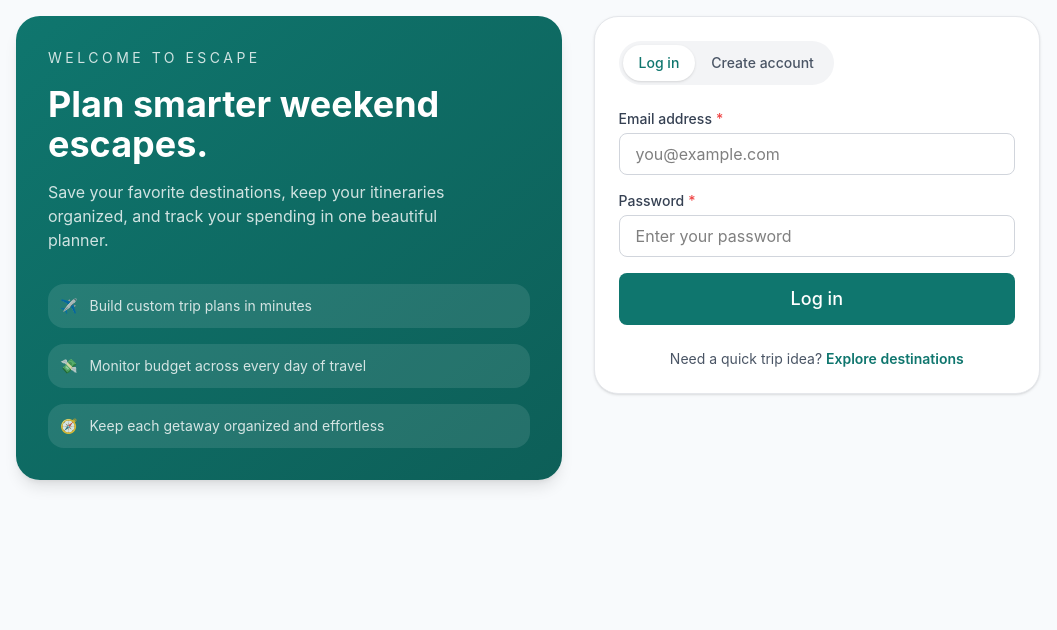
AuthPage › creates a new account from the sign-up form
This screenshot has width=1057, height=630.
Click the button "Create account": (763,63) [695,45,830,81]
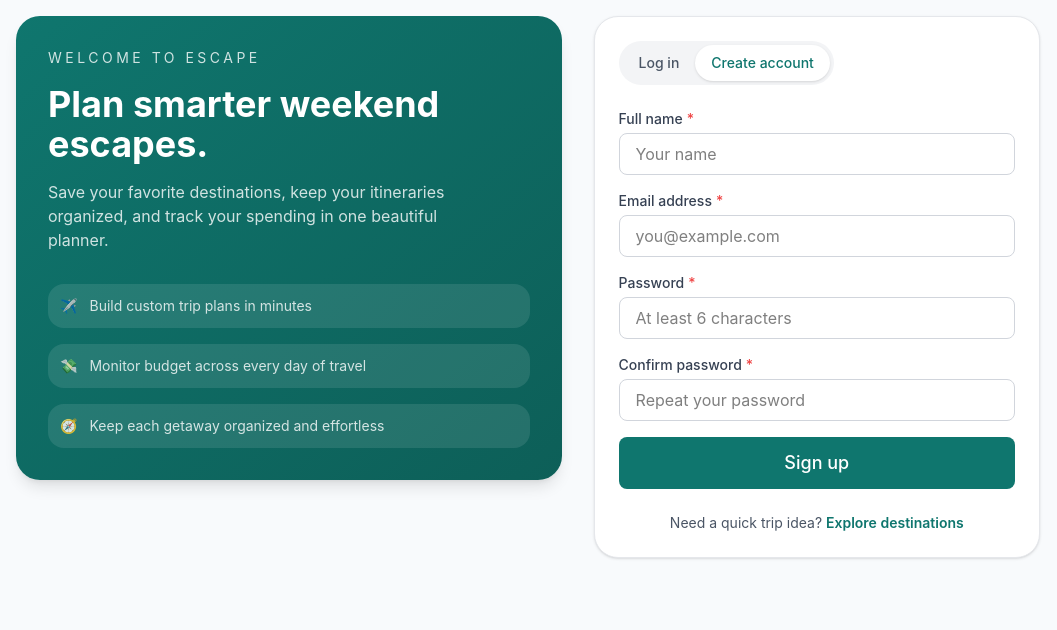
In the field labelled "Full name*": (817,154) [619,133,1015,175], type "Jane Traveler"
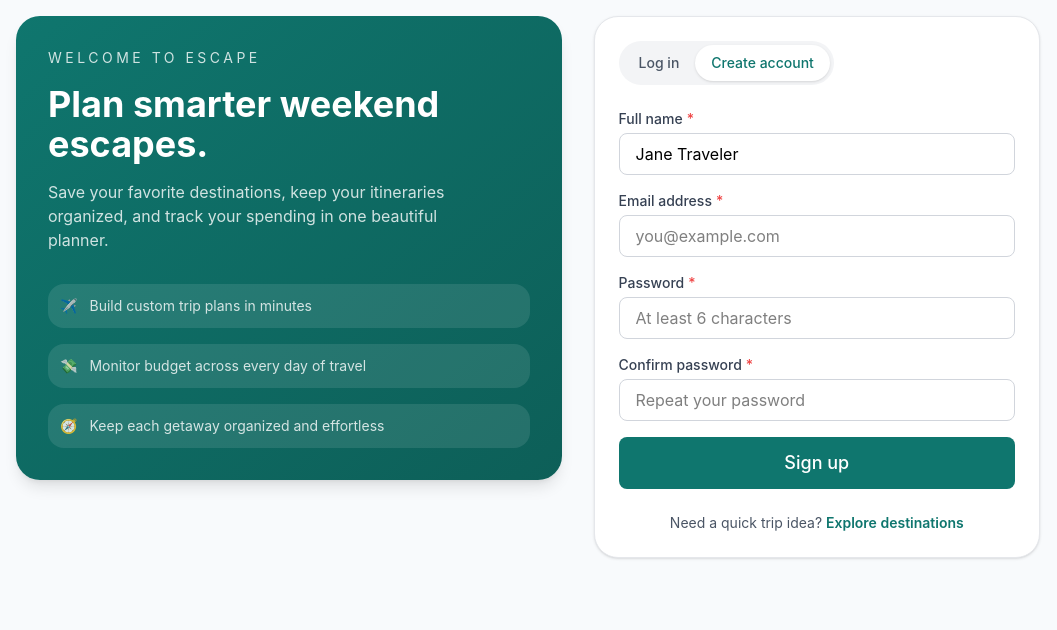
In the field labelled "Email address*": (817,236) [619,215,1015,257], type "jane@example.com"
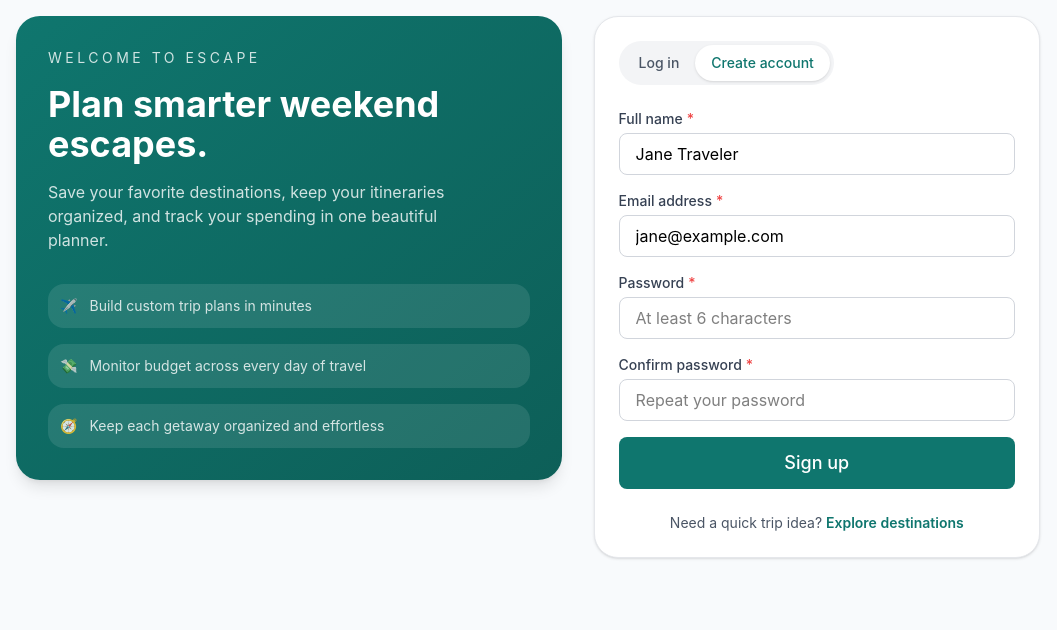
In the password field labelled "Password*": (817,318) [619,297,1015,339], type "password123"
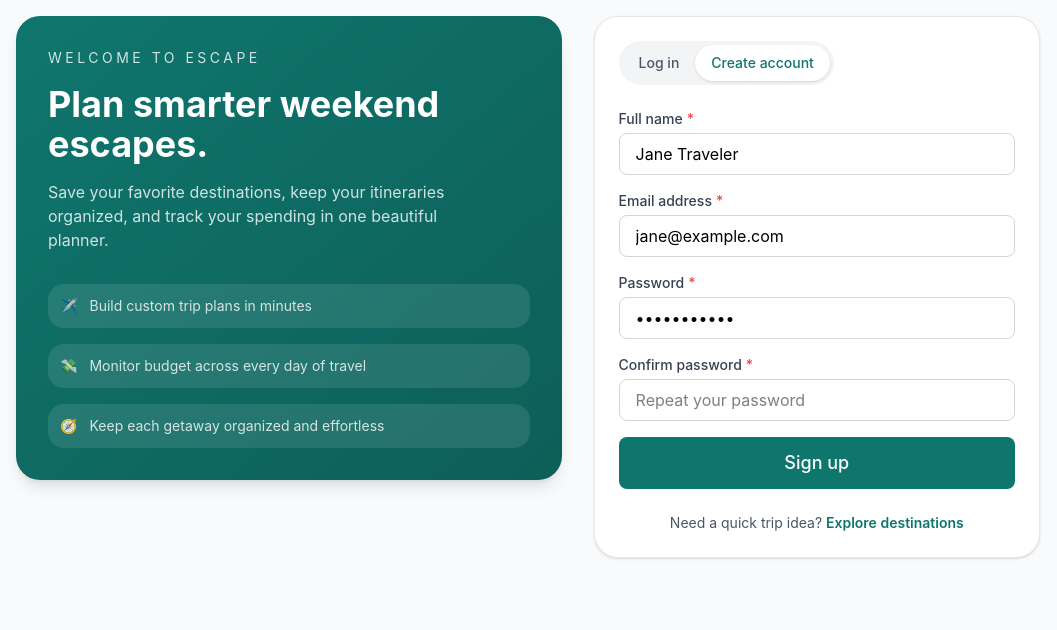
In the password field labelled "Confirm password*": (817,400) [619,379,1015,421], type "password123"
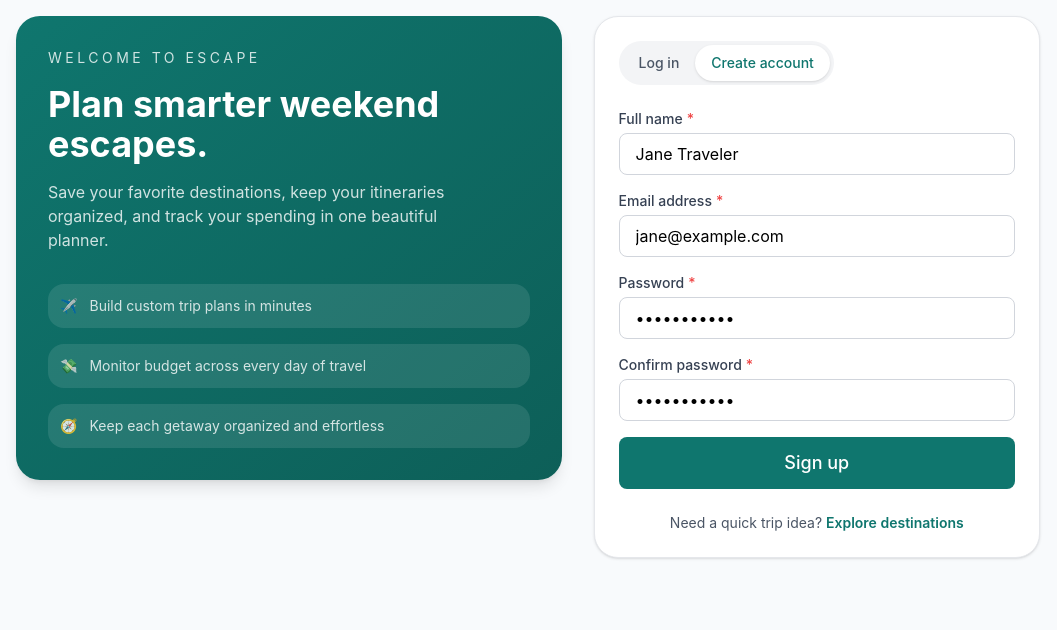
Click the button "Sign up": (817,463) [619,437,1015,489]
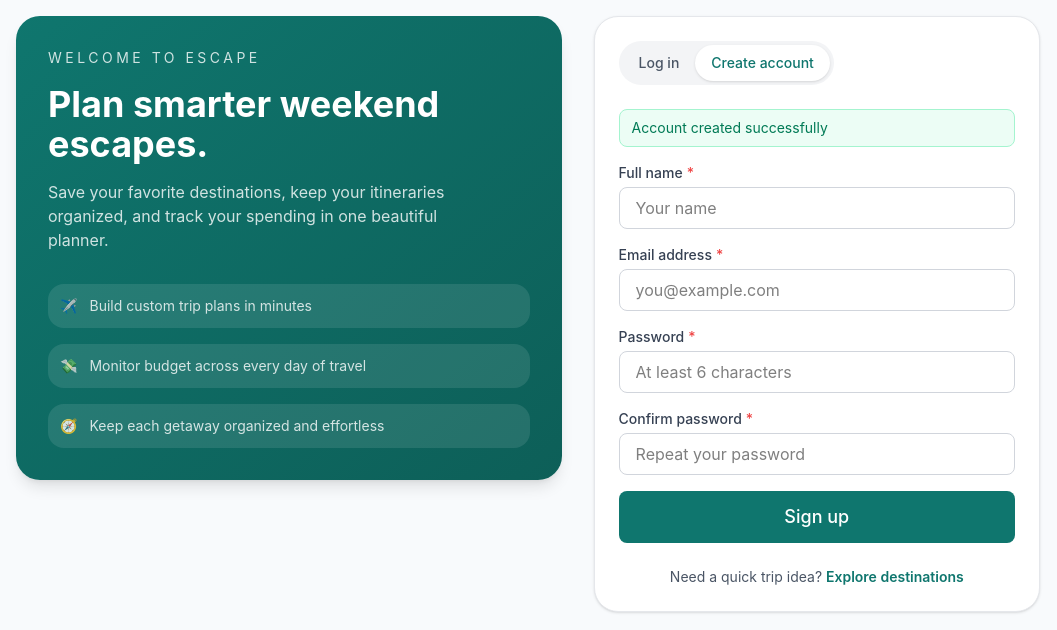
Result: the text "Account created successfully" is shown at [619,109,1015,147]
